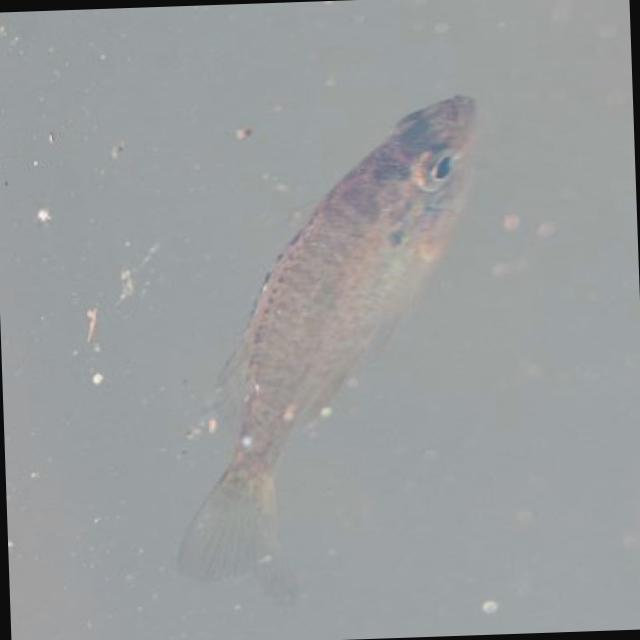Gunes Levregi: (154, 90, 506, 597)
